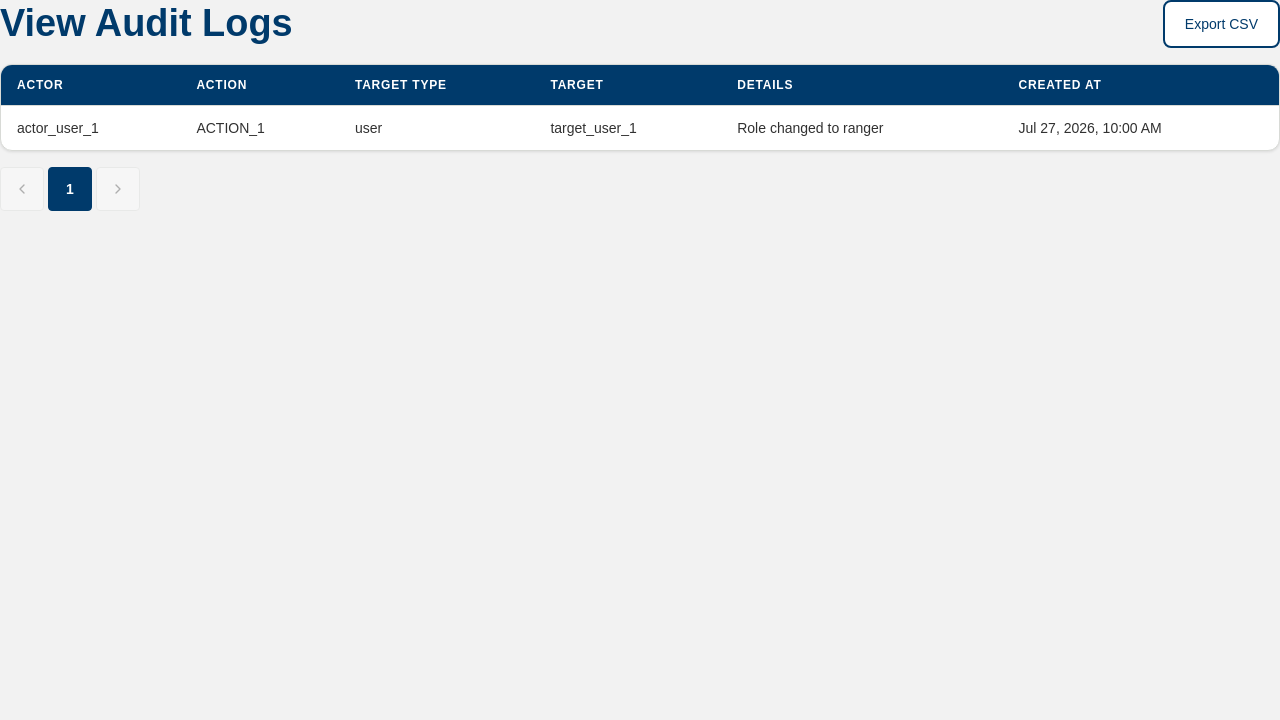
Scenario: AuditLog Component Testing › does not export when the confirm dialog is cancelled
Expected: the text "ACTION_1" is shown, top-left (180, 106), bottom-right (339, 150)
Click the button "Export CSV".
click(1221, 24)  # box top-left (1163, 0), bottom-right (1279, 48)
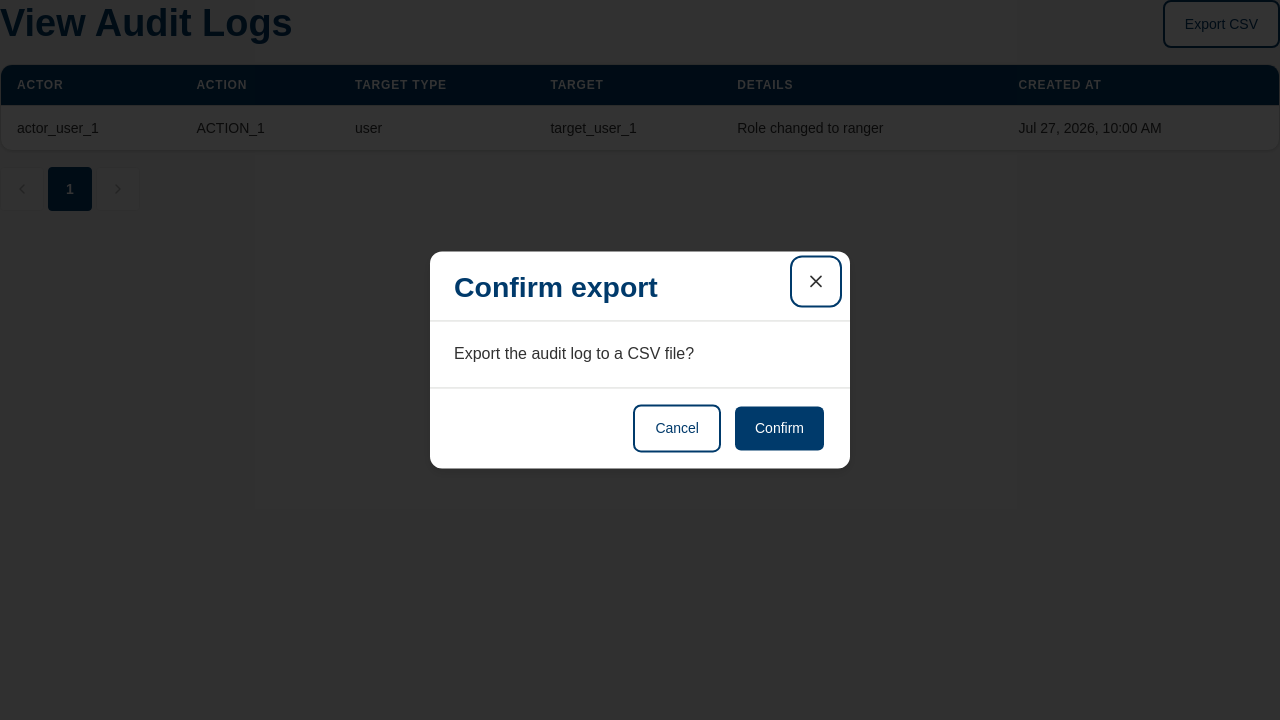
Result: the heading "Confirm export" is shown at top-left (454, 271), bottom-right (658, 304)
Click the button "Cancel".
click(677, 429)  # box top-left (633, 405), bottom-right (721, 453)
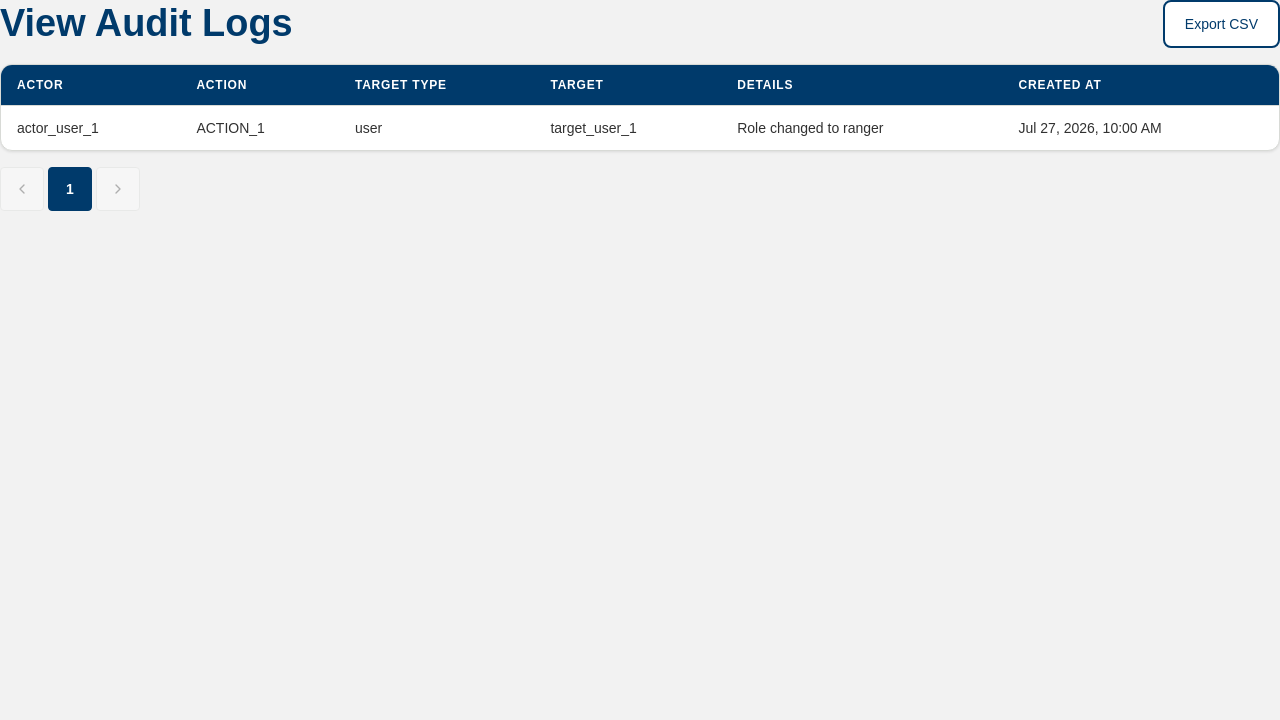
Result: the heading "Confirm export" is gone
